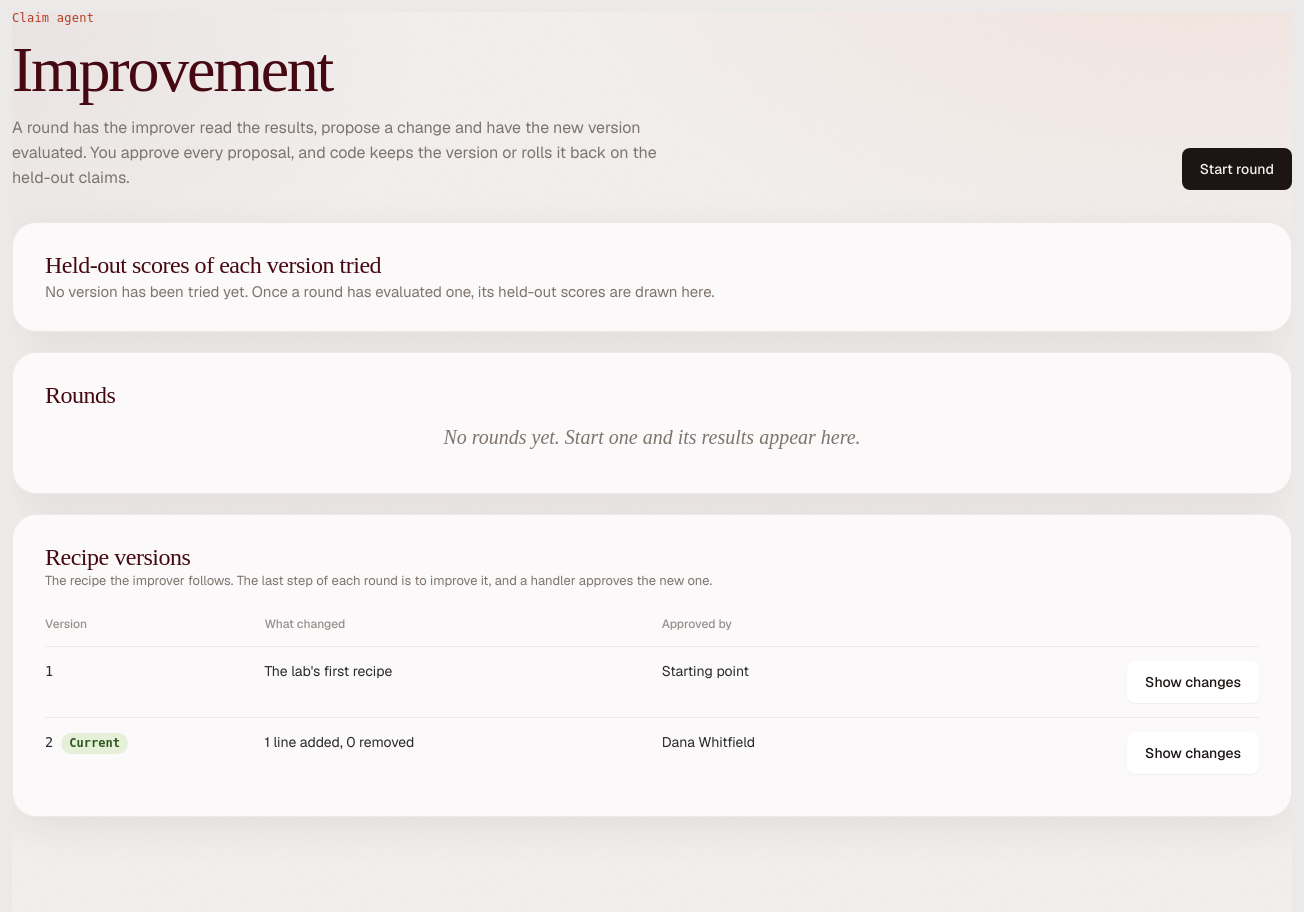
Improvement › lists the recipe's versions and shows their changes
The image size is (1304, 912).
Click the button with aria-label "Show changes in recipe 2" at (1193, 753), box [1127,732,1259,774]
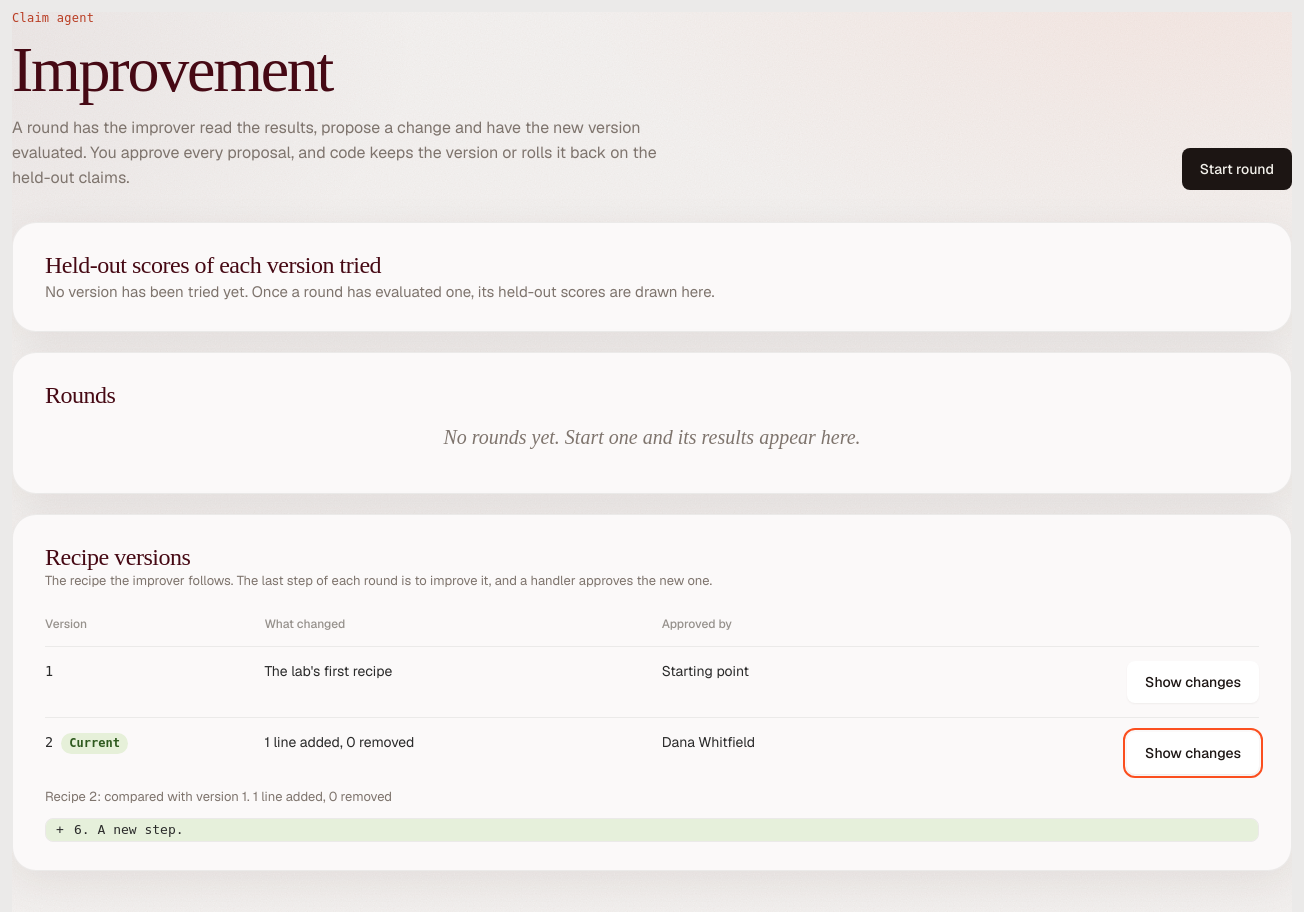
Result: the text "6. A new step." is shown at [74,822,184,837]
